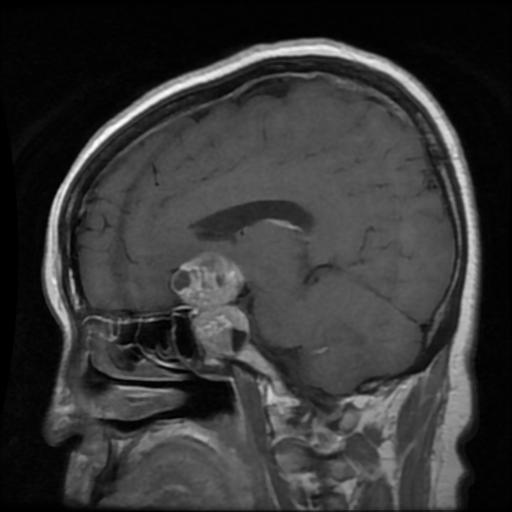Pituirity_tumour: (178, 250, 249, 356)
